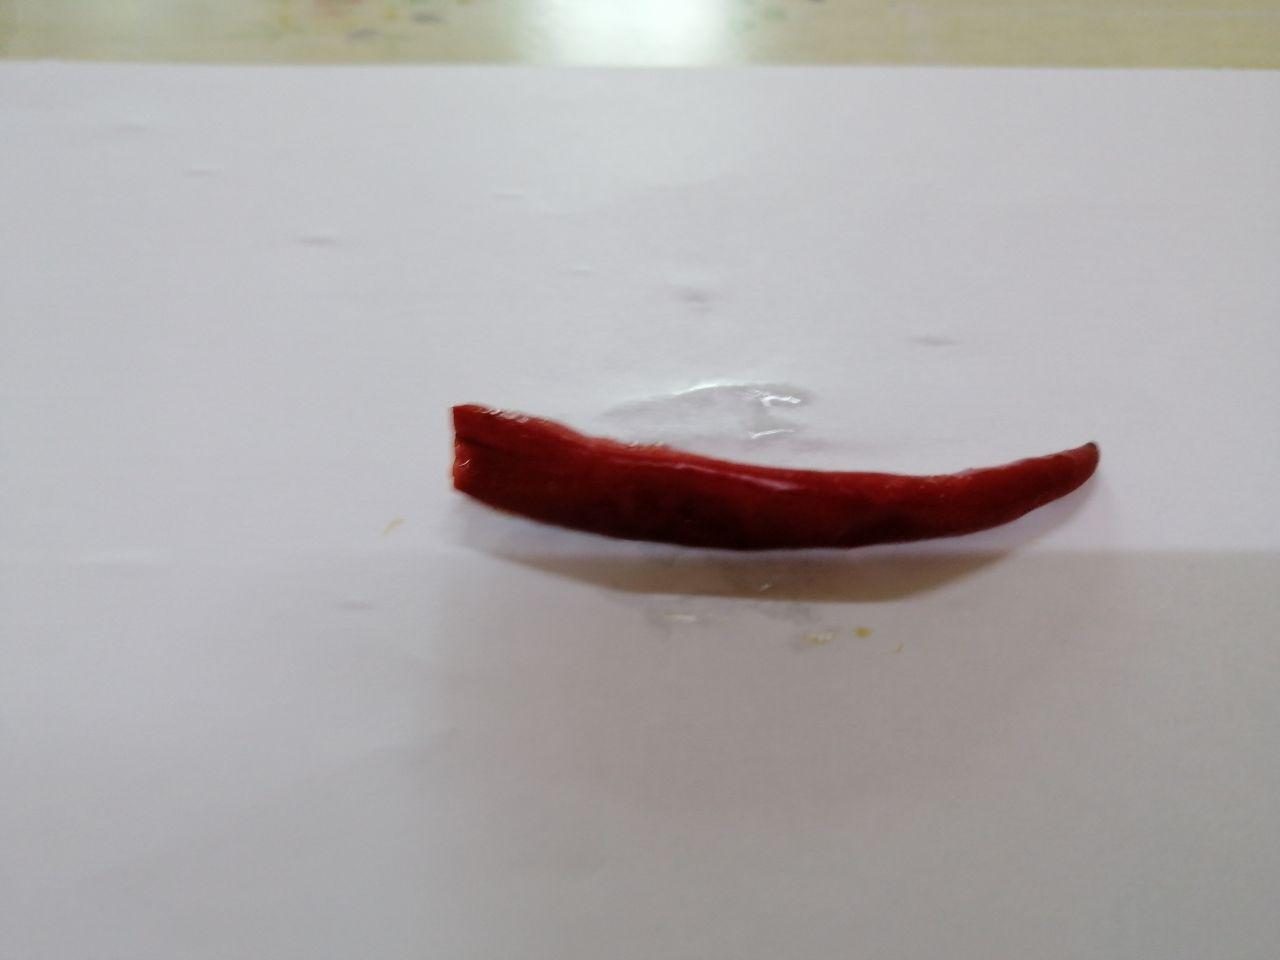lada merah: (396, 369, 1122, 577)
